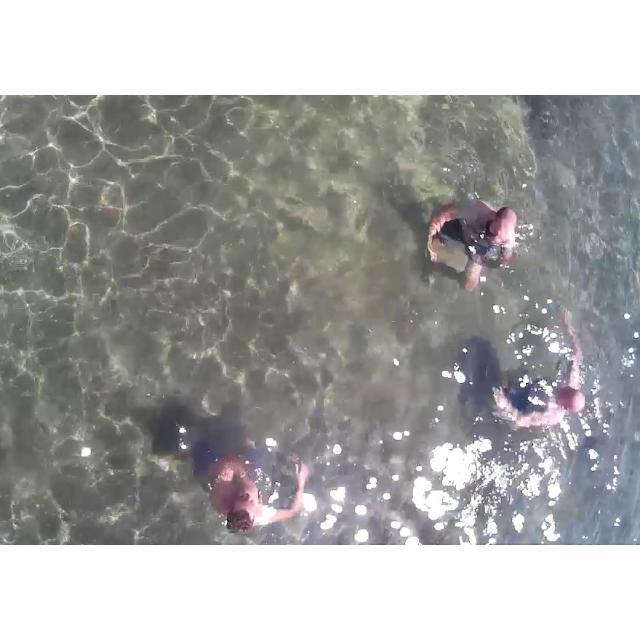human: (159, 419, 311, 544), (420, 161, 523, 291), (497, 314, 593, 439)
